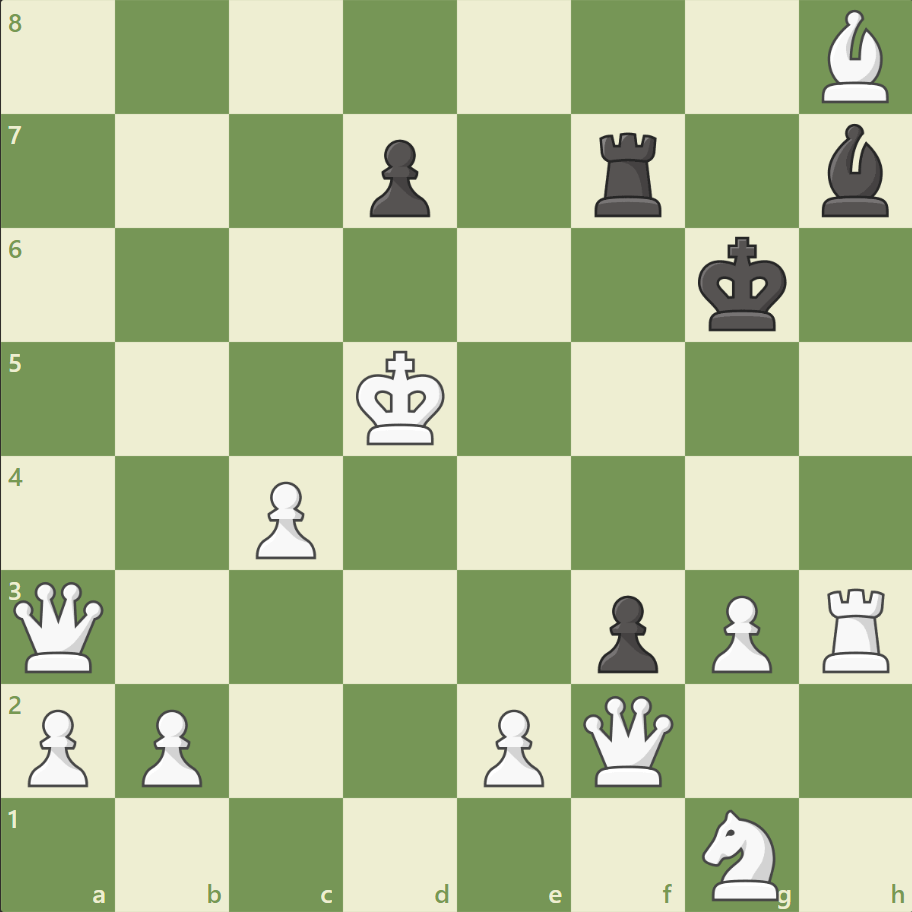B: (812, 6, 896, 109)
K: (351, 344, 451, 452)
N: (692, 802, 789, 904)
P: (247, 473, 322, 564), (701, 586, 776, 677), (20, 700, 95, 791), (133, 700, 208, 791), (474, 700, 549, 791)
Q: (10, 576, 109, 676), (578, 690, 677, 789)
R: (814, 579, 897, 676)
b: (812, 120, 896, 222)
k: (692, 231, 792, 339)
p: (361, 132, 435, 223), (588, 586, 662, 677)
r: (587, 125, 670, 222)
